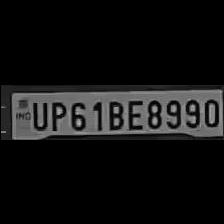0: (200, 96, 220, 127)
1: (87, 97, 105, 130)
6: (66, 98, 86, 130)
8: (143, 96, 161, 128)
9: (163, 96, 181, 128), (182, 95, 200, 127)
B: (103, 97, 123, 129)
E: (123, 96, 143, 130)
P: (46, 98, 66, 130)
U: (28, 97, 46, 129)
